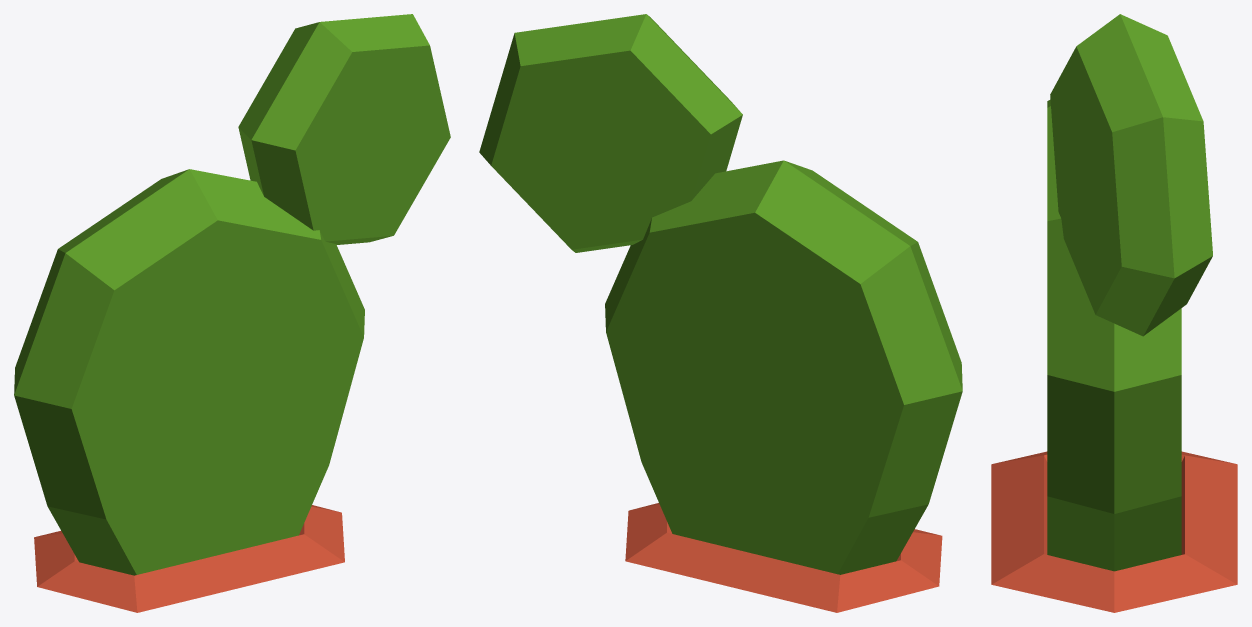
Rendered from Cactus_6.fbx.
The picture shows the model from 3 angles, left to right: view 1: azimuth 30°, elevation 25°; view 2: azimuth 150°, elevation 25°; view 3: azimuth 270°, elevation 25°; orthographic projection. The views are drawn at different scales.
Visible parts, largest first — view 1: Cactus_5; view 2: Cactus_5; view 3: Cactus_5.
Part boxes in pixels (box(x1,y1,x2,y2)): Cactus_5: box(14, 14, 450, 612); Cactus_5: box(479, 14, 962, 612); Cactus_5: box(991, 14, 1237, 612).
Bounding box in the file's own units: 73.93 × 77.69 × 29.49.
Materials: 1 (1 with a texture image).
